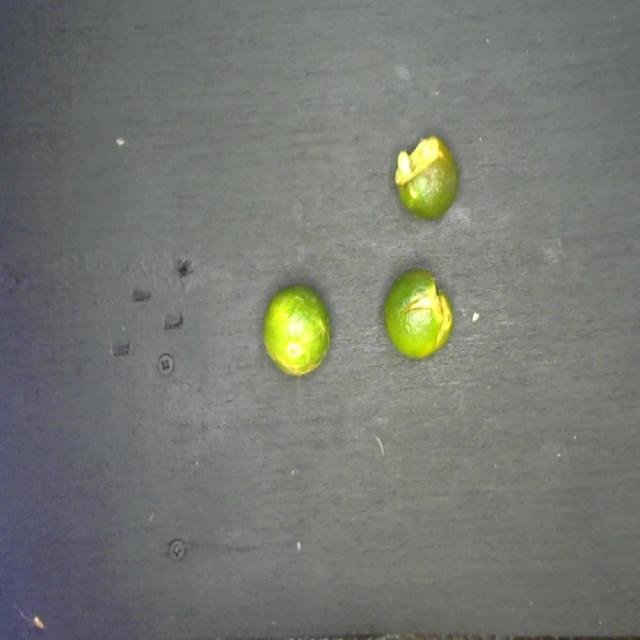biodegradable: (255, 120, 463, 382)
